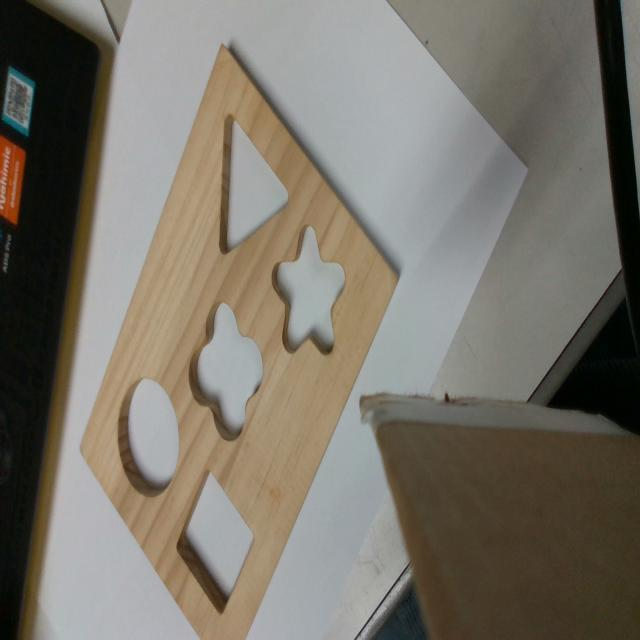circle: (117, 380, 179, 495)
flower: (189, 297, 264, 445)
square: (177, 469, 256, 612)
star: (271, 222, 344, 352)
triangle: (220, 112, 291, 255)
